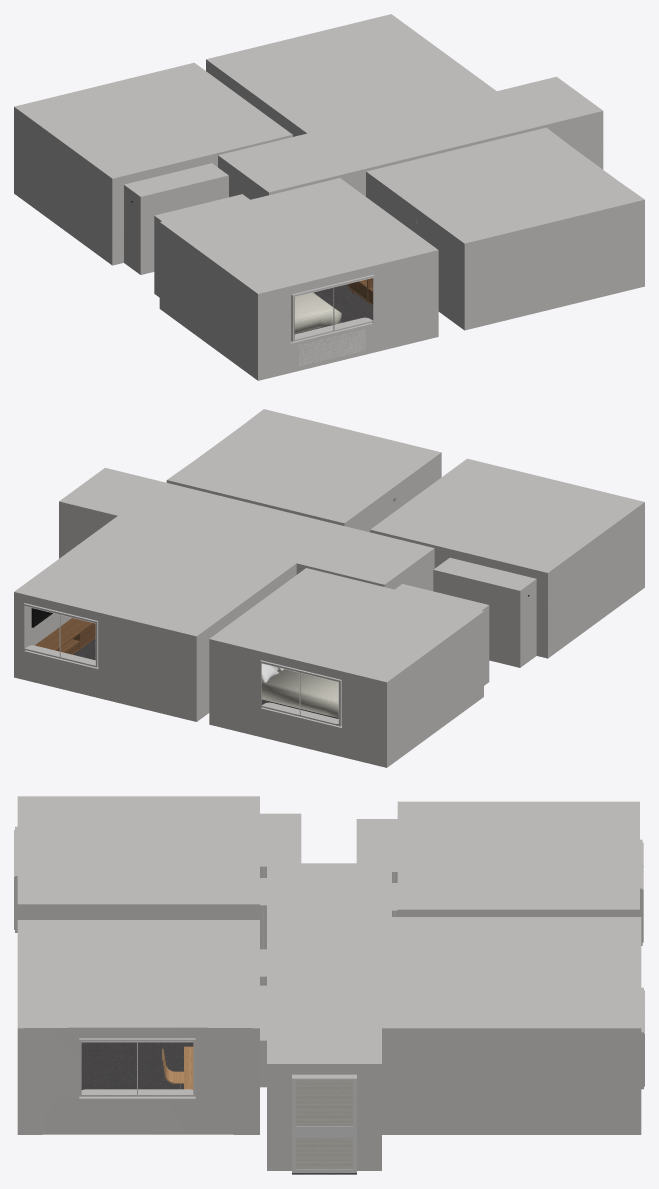
File: flat.fbx
3 renders of one model, top to bottom at view 1: azimuth 30°, elevation 25°; view 2: azimuth 150°, elevation 25°; view 3: azimuth 270°, elevation 25°, orthographic. The views are drawn at different scales.
Parts seen in each view (by area): view 1: flat, plaid_1, radiator_2; view 2: flat, plaid_2, nightstand_1; view 3: flat, door_1.
Boxes of the visible parts, x1=… form: flat: x1=14, y1=14, x2=644, y2=380; plaid_1: x1=294, y1=292, x2=341, y2=333; radiator_2: x1=299, y1=329, x2=365, y2=366; flat: x1=14, y1=409, x2=644, y2=767; plaid_2: x1=261, y1=669, x2=338, y2=718; nightstand_1: x1=35, y1=618, x2=95, y2=654; flat: x1=14, y1=796, x2=644, y2=1174; door_1: x1=292, y1=1078, x2=356, y2=1172.
Bounding box in the file's own units: 1092 × 201 × 1071.
Materials: 7 (2 with a texture image).
